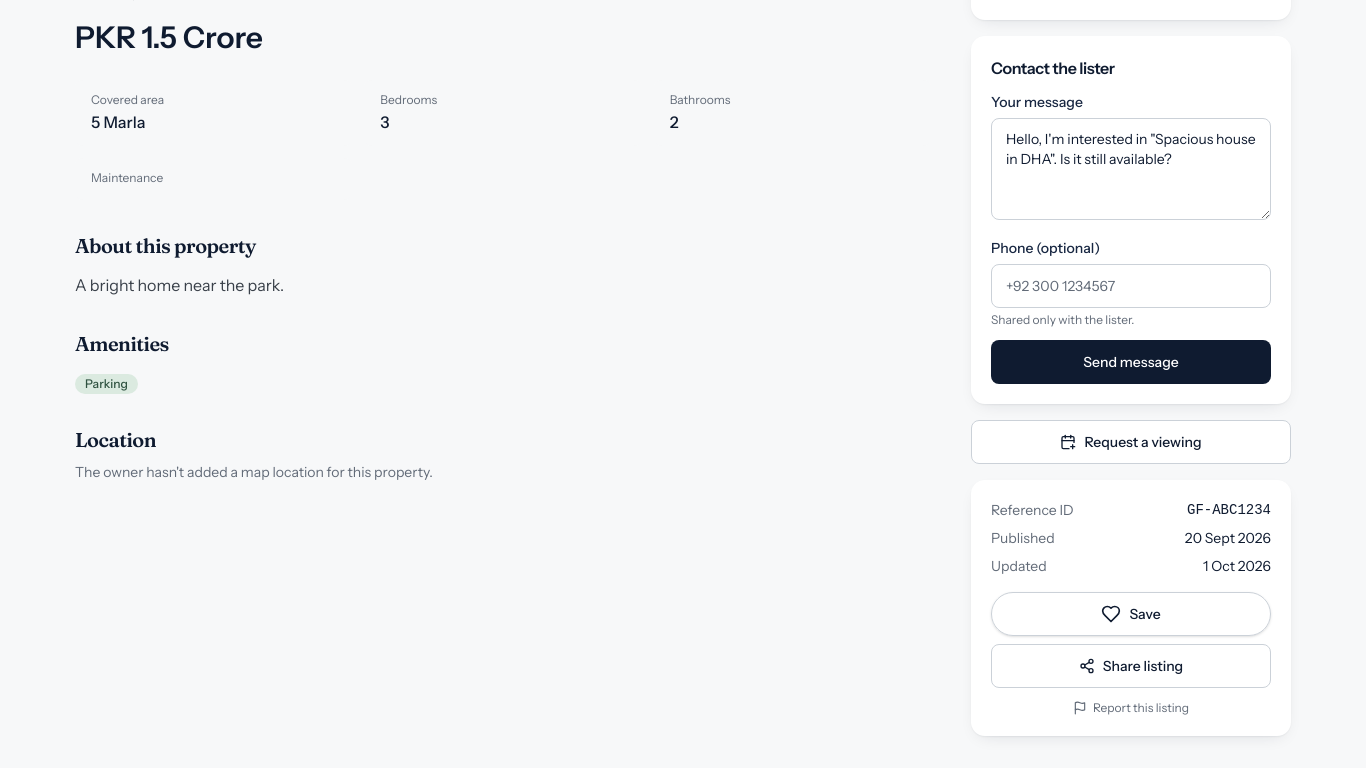
it: property detail: who can do what › verified people get the message form, a viewing request and the report link
(page scrolled)
Expected: the form "Contact the lister" is shown, [971,36,1291,404]
Expected: the button with aria-label "Save Spacious house in DHA" is shown, [991,592,1271,636]
Click the button "Request a viewing". click: [1131, 442]
box: [971,420,1291,464]
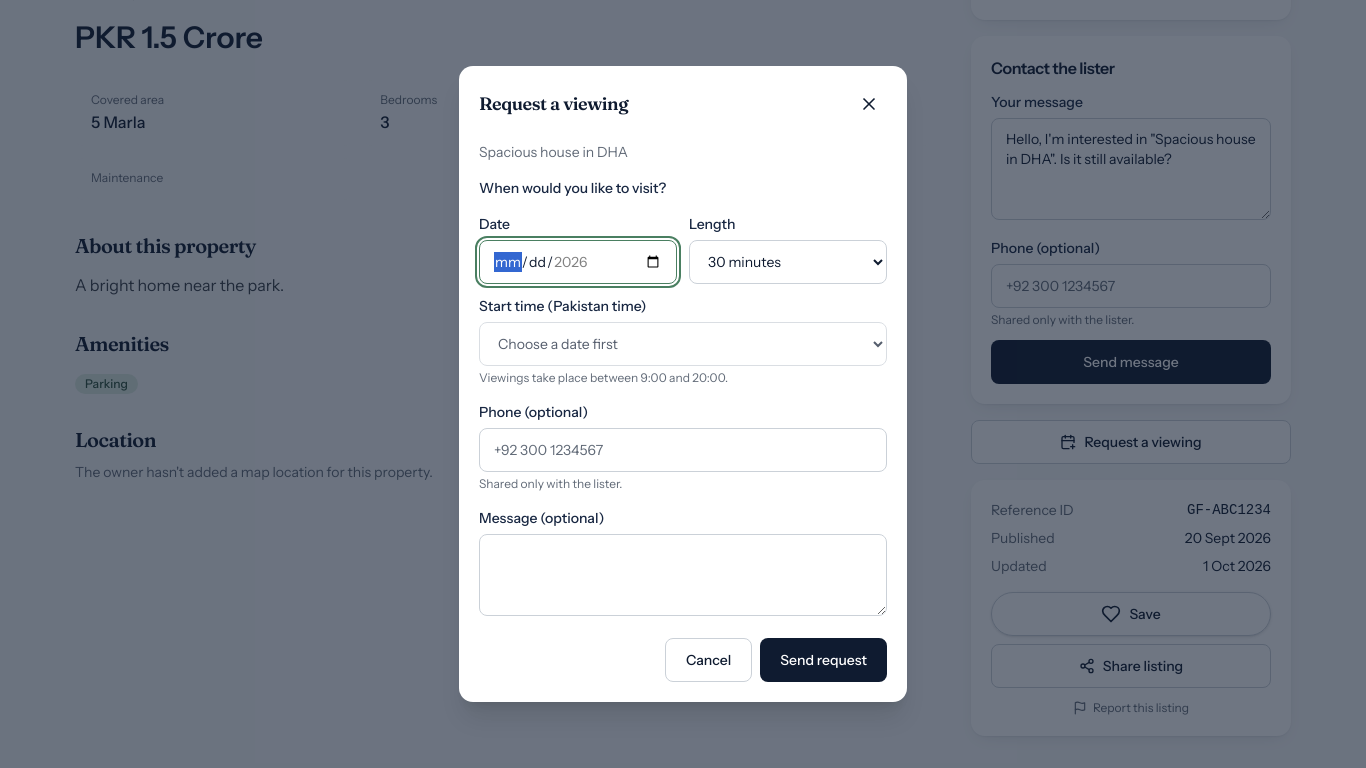
Result: the dialog "Request a viewing" is shown
